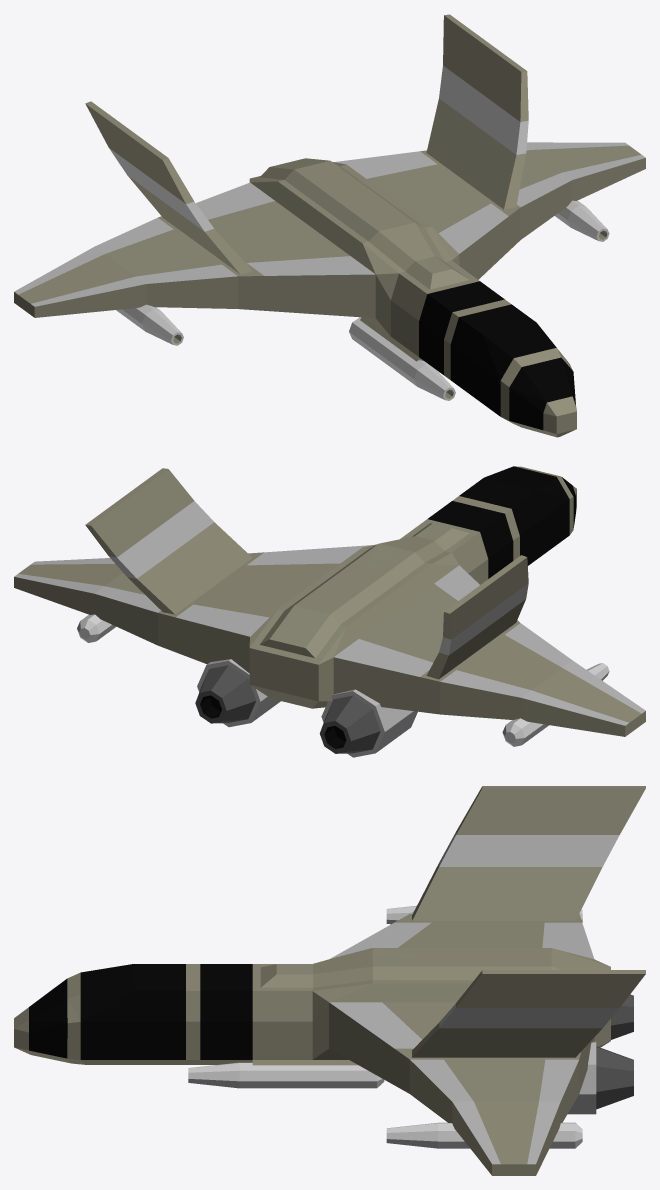
The model's file is Spaceship4_3.fbx.
3 views of the same model, one above another, from view 1: azimuth 30°, elevation 25°; view 2: azimuth 150°, elevation 25°; view 3: azimuth 270°, elevation 25° (orthographic). The views are drawn at different scales.
Visible parts, largest first — view 1: Spaceship4_3; view 2: Spaceship4_3; view 3: Spaceship4_3.
Boxes of the visible parts, x1,y1,x2,y2 form: Spaceship4_3: (14,14,645,437); Spaceship4_3: (14,466,645,757); Spaceship4_3: (14,786,645,1175).
Bounding box in the file's own units: 1061 × 317 × 900.
